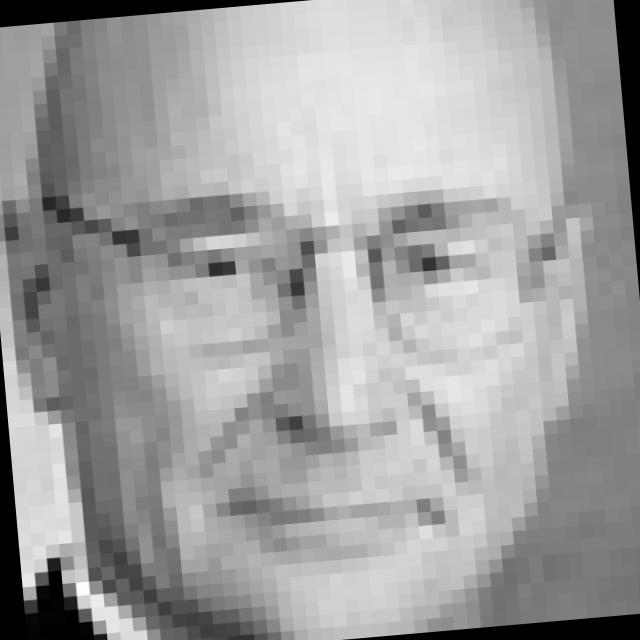neutral: (123, 159, 560, 582)
